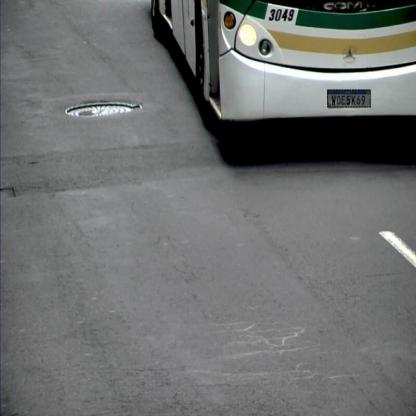PlacaM: (327, 90, 371, 107)
